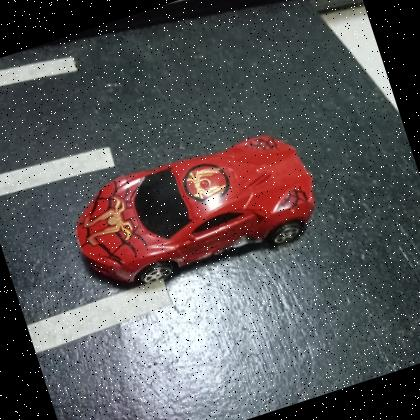Car: (60, 114, 333, 308)
